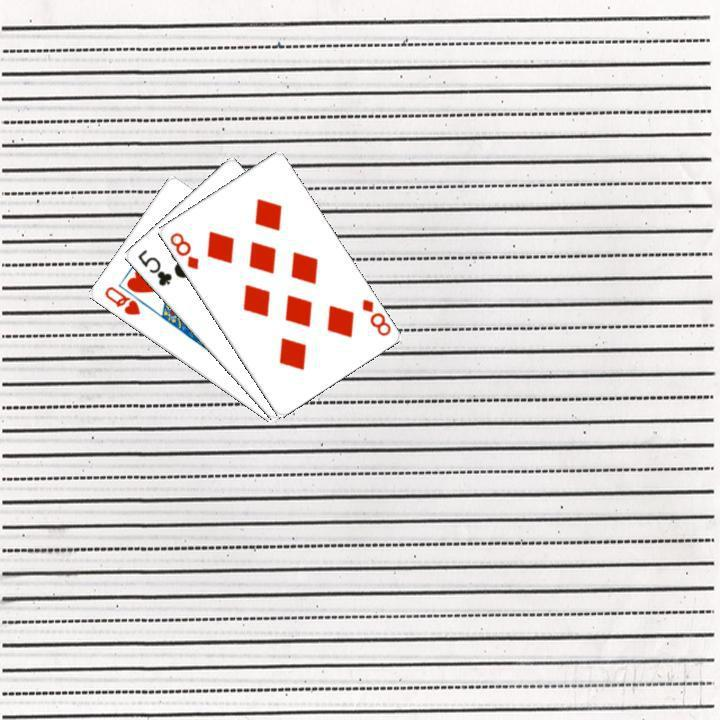5: (132, 245, 174, 288)
8: (165, 228, 201, 272), (357, 294, 393, 338)
Q: (100, 282, 142, 317)
